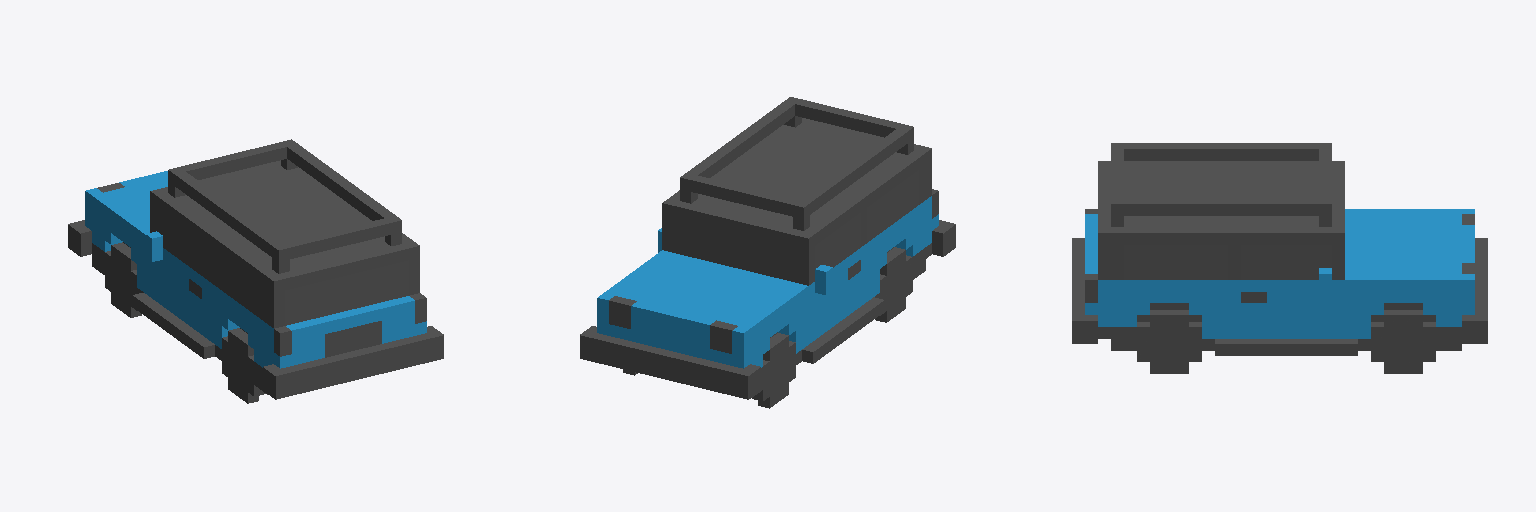
3 views of the same model, side by side, from view 1: azimuth 30°, elevation 25°; view 2: azimuth 150°, elevation 25°; view 3: azimuth 270°, elevation 25° (orthographic).
Bounding box in the file's own units: 15 × 14 × 32.
1 materials, 1 textured.